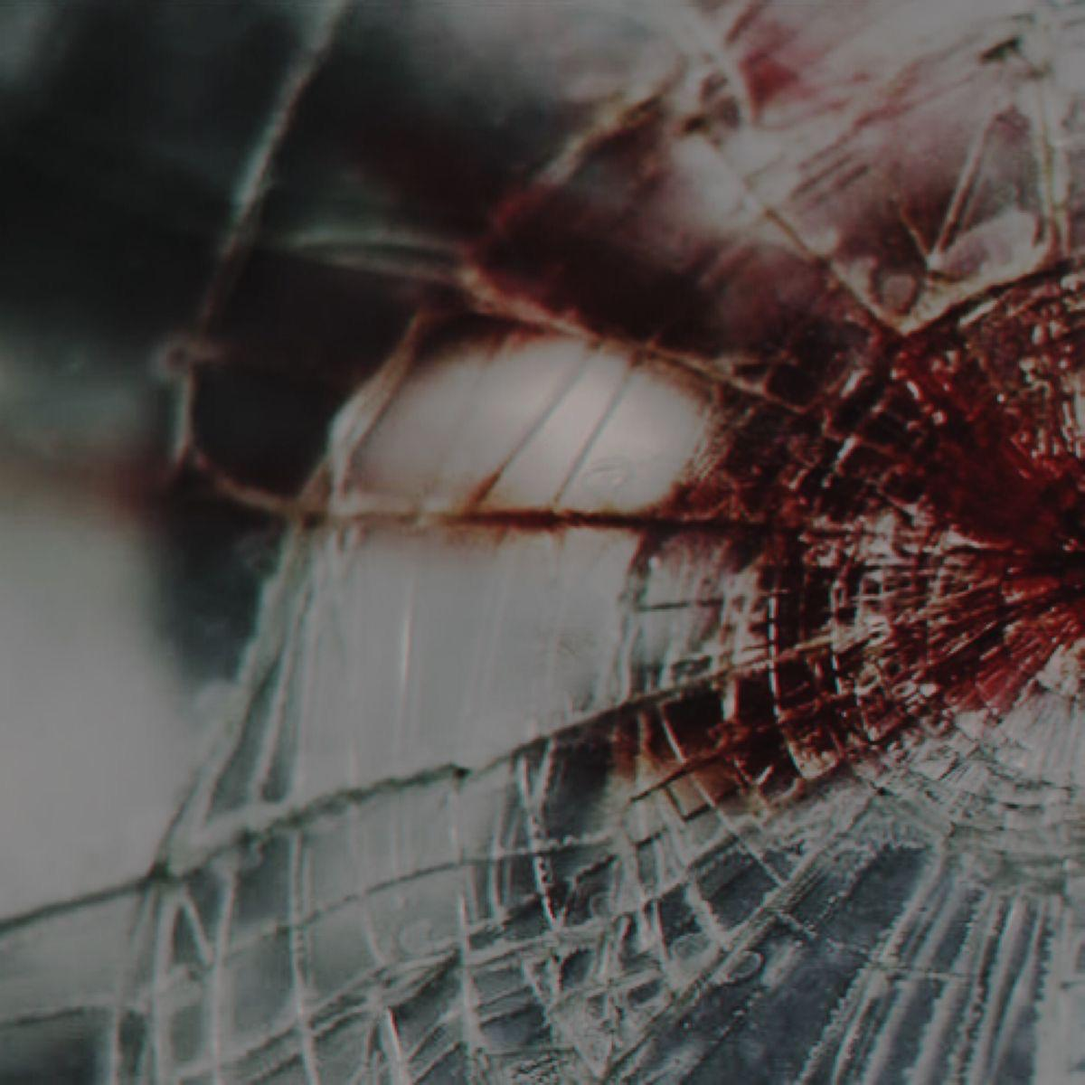blood_23.png: (36, 26, 1085, 808)
